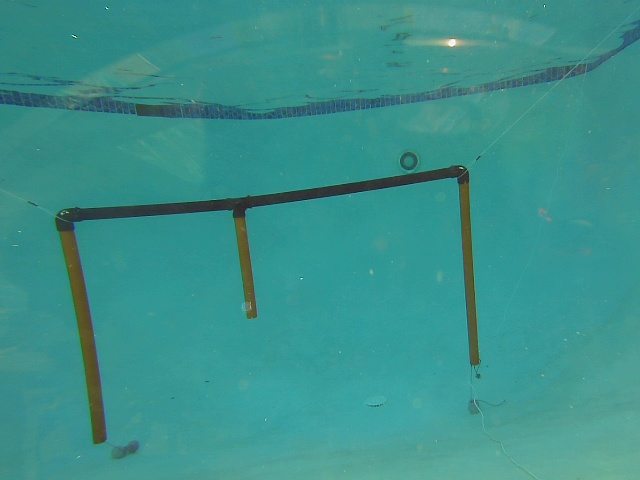Gate: (51, 218, 111, 448), (457, 179, 483, 369), (236, 214, 261, 318)
